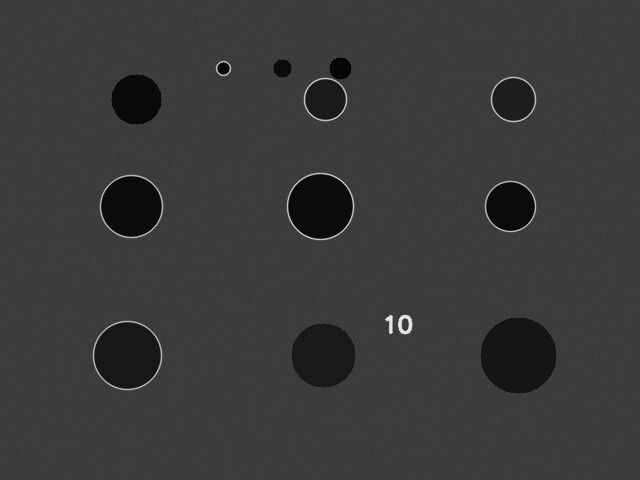hole: (480, 317, 556, 393), (93, 321, 161, 389), (287, 173, 353, 239), (291, 323, 355, 387), (100, 175, 162, 237), (111, 74, 161, 124), (485, 181, 535, 231), (491, 77, 535, 121), (304, 78, 346, 120), (329, 57, 351, 79), (273, 59, 291, 77), (216, 61, 230, 75)
